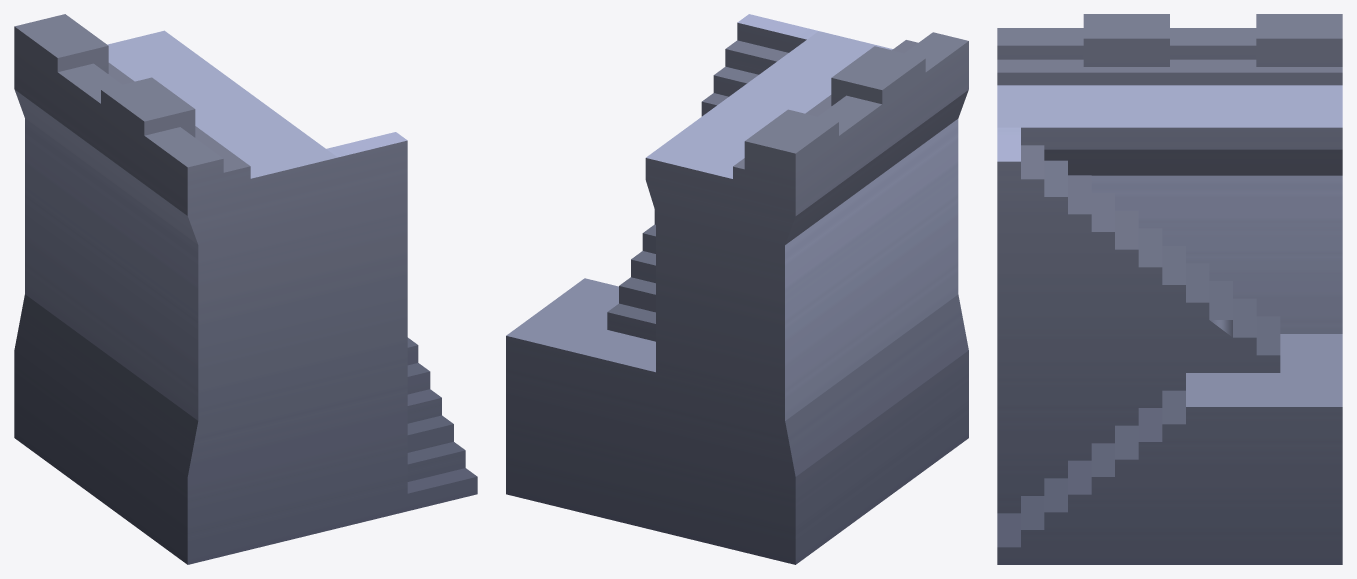
The model's file is wall-narrow-stairs.fbx.
3 views of the same model, side by side, from view 1: azimuth 30°, elevation 25°; view 2: azimuth 150°, elevation 25°; view 3: azimuth 270°, elevation 25° (orthographic).
Visible parts, largest first — view 1: wall-narrow-stairs; view 2: wall-narrow-stairs; view 3: wall-narrow-stairs.
Part boxes in pixels (left/top/right/bottom): wall-narrow-stairs: left=14, top=14, right=477, bottom=564; wall-narrow-stairs: left=506, top=14, right=968, bottom=564; wall-narrow-stairs: left=997, top=14, right=1342, bottom=564.
Size of the model in its own units: 0.965 by 1 by 1.31.
